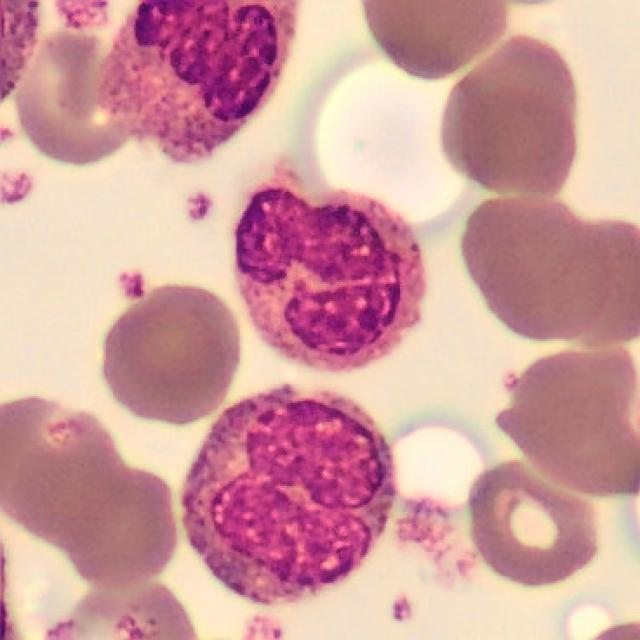Bastonete: (184, 389, 393, 602)
Neutrofilo segmentado: (237, 170, 423, 368)
